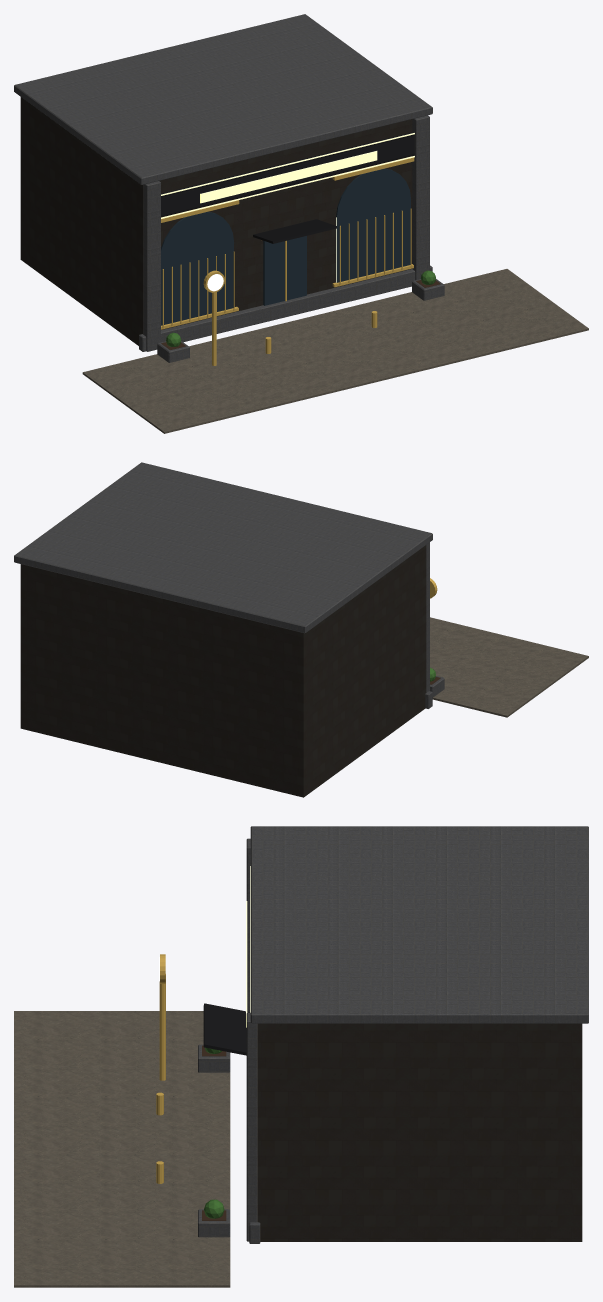
File: OT_Jewelry_A.glb
3 views of the same model, one above another, from view 1: azimuth 30°, elevation 25°; view 2: azimuth 150°, elevation 25°; view 3: azimuth 270°, elevation 25° (orthographic). The views are drawn at different scales.
Parts seen in each view (by area): view 1: OT_Jewelry_A_Granite, OT_Jewelry_A_Pavement, OT_Jewelry_A_BlackMarble, OT_Jewelry_A_Glass__22303a, OT_Jewelry_A_Brass__c9a44e, OT_Jewelry_A_SignFace__1a1a1c, OT_Jewelry_A_GoldGlow__ffd27a, OT_Jewelry_A_Awning__141416; view 2: OT_Jewelry_A_BlackMarble, OT_Jewelry_A_Granite, OT_Jewelry_A_Pavement; view 3: OT_Jewelry_A_Granite, OT_Jewelry_A_BlackMarble, OT_Jewelry_A_Pavement, OT_Jewelry_A_Awning__141416, OT_Jewelry_A_Brass__c9a44e.
Part boxes in pixels (x1,y1,x2,y2): OT_Jewelry_A_Granite: (14, 14, 444, 362); OT_Jewelry_A_Pavement: (82, 269, 588, 433); OT_Jewelry_A_BlackMarble: (20, 97, 412, 345); OT_Jewelry_A_Glass__22303a: (161, 168, 410, 325); OT_Jewelry_A_Brass__c9a44e: (161, 156, 414, 365); OT_Jewelry_A_SignFace__1a1a1c: (161, 136, 414, 215); OT_Jewelry_A_GoldGlow__ffd27a: (161, 133, 414, 218); OT_Jewelry_A_Awning__141416: (161, 132, 414, 243); OT_Jewelry_A_BlackMarble: (20, 545, 426, 797); OT_Jewelry_A_Granite: (14, 462, 444, 708); OT_Jewelry_A_Pavement: (430, 617, 588, 717); OT_Jewelry_A_Granite: (198, 826, 588, 1243); OT_Jewelry_A_BlackMarble: (257, 1023, 582, 1241); OT_Jewelry_A_Pavement: (14, 1011, 230, 1287); OT_Jewelry_A_Awning__141416: (203, 1003, 249, 1055); OT_Jewelry_A_Brass__c9a44e: (156, 954, 165, 1183).
Bounding box in the file's own units: 24 × 9.4 × 21.25.
Materials: 13 (3 with a texture image).
